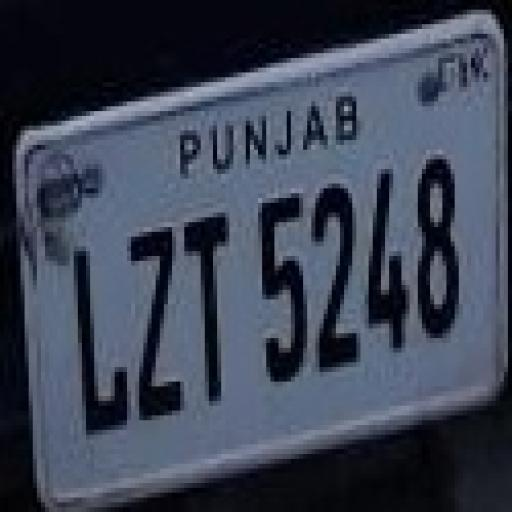2: (312, 184, 364, 378)
4: (360, 166, 410, 352)
5: (254, 200, 308, 379)
8: (411, 154, 469, 362)
L: (59, 240, 128, 437)
T: (181, 214, 244, 415)
Z: (120, 211, 188, 423)
